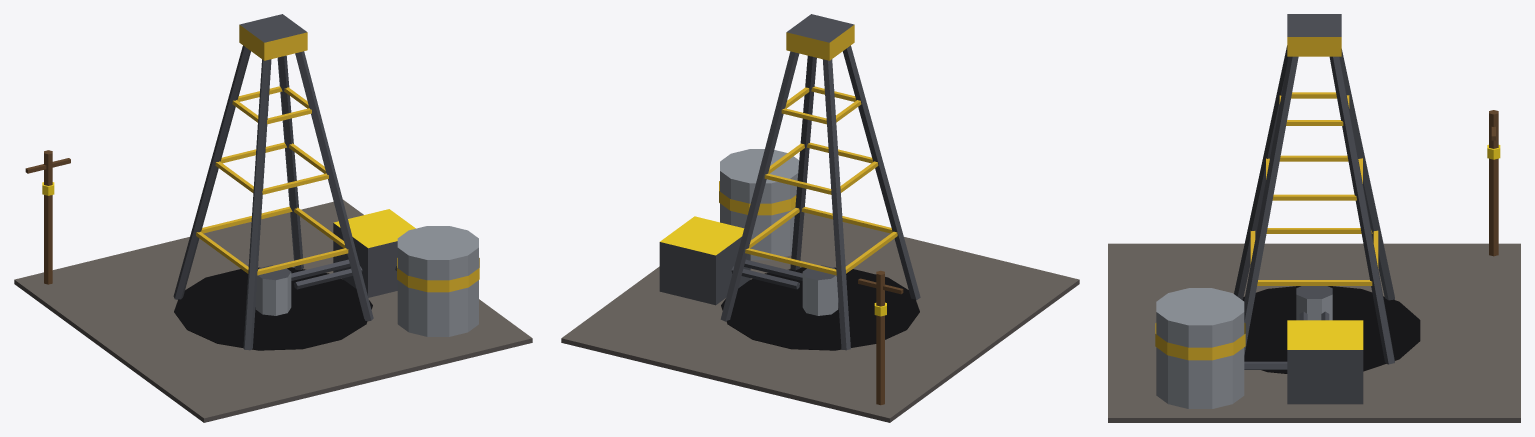
Rendered from oil_well_3.glb.
3 renders of one model, left to right at view 1: azimuth 30°, elevation 25°; view 2: azimuth 150°, elevation 25°; view 3: azimuth 270°, elevation 25°, orthographic. The views are drawn at different scales.
Visible parts, largest first — view 1: oil_well_3; view 2: oil_well_3; view 3: oil_well_3.
Boxes of the visible parts, <box> form: oil_well_3: <box>14,14,532,422</box>; oil_well_3: <box>561,14,1079,422</box>; oil_well_3: <box>1108,14,1520,422</box>.
Bounding box in the file's own units: 3.8 × 3.15 × 3.8.
